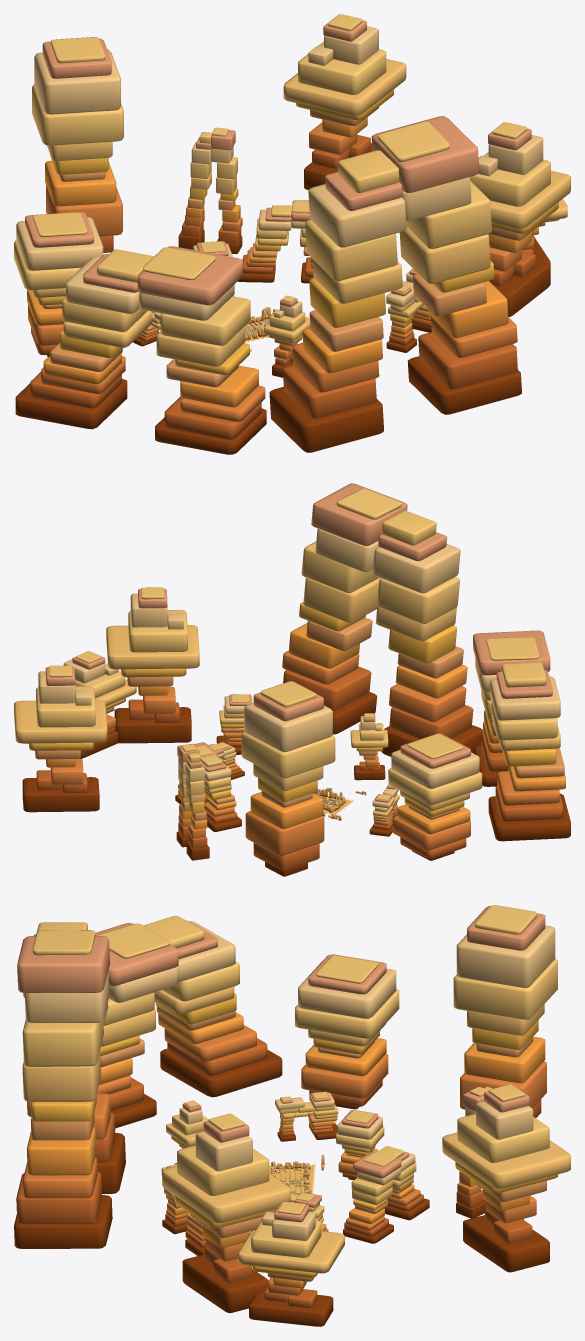
File: enviro build.fbx
The picture shows the model from 3 angles, top to bottom: view 1: azimuth 30°, elevation 25°; view 2: azimuth 150°, elevation 25°; view 3: azimuth 270°, elevation 25°; orthographic projection. The views are drawn at different scales.
Visible parts, largest first — view 1: Cube.221, Cube.218, Cube.222, Cube.220, Cube.214, Cube.219, Cube.225, Cube.213, Cube.216, Cube.224, Cube.217; view 2: Cube.221, Cube.218, Cube.222, Cube.214, Cube.220, Cube.219, Cube.225, Cube.217, Cube.213, Cube.224, Cube.216, Cube.215 (+1 smaller); view 3: Cube.221, Cube.218, Cube.222, Cube.214, Cube.220, Cube.219, Cube.217, Cube.213, Cube.215, Cube.223, Cube.225, Cube.216 (+3 smaller).
Boxes of the visible parts, left/top/right/bottom form: Cube.221: left=269, top=116, right=521, bottom=452; Cube.218: left=15, top=246, right=266, bottom=454; Cube.222: left=32, top=37, right=123, bottom=252; Cube.220: left=283, top=14, right=406, bottom=189; Cube.214: left=470, top=122, right=570, bottom=316; Cube.219: left=14, top=212, right=103, bottom=356; Cube.225: left=178, top=127, right=242, bottom=254; Cube.213: left=238, top=200, right=313, bottom=283; Cube.216: left=386, top=268, right=431, bottom=352; Cube.224: left=264, top=295, right=310, bottom=377; Cube.217: left=522, top=199, right=567, bottom=264; Cube.221: left=282, top=483, right=483, bottom=756; Cube.218: left=473, top=630, right=570, bottom=841; Cube.222: left=241, top=681, right=335, bottom=876; Cube.214: left=106, top=587, right=199, bottom=743; Cube.220: left=14, top=665, right=107, bottom=812; Cube.219: left=388, top=733, right=482, bottom=860; Cube.225: left=176, top=743, right=209, bottom=860; Cube.217: left=63, top=651, right=136, bottom=758; Cube.213: left=175, top=742, right=241, bottom=831; Cube.224: left=350, top=713, right=388, bottom=780; Cube.216: left=216, top=694, right=252, bottom=754; Cube.215: left=369, top=784, right=399, bottom=836; Cube.221: left=14, top=922, right=125, bottom=1248; Cube.218: left=95, top=915, right=282, bottom=1128; Cube.222: left=453, top=905, right=557, bottom=1117; Cube.214: left=162, top=1113, right=290, bottom=1313; Cube.220: left=442, top=1084, right=570, bottom=1272; Cube.219: left=295, top=954, right=399, bottom=1109; Cube.217: left=238, top=1201, right=344, bottom=1326; Cube.213: left=343, top=1146, right=429, bottom=1243; Cube.215: left=275, top=1091, right=338, bottom=1141; Cube.223: left=336, top=1110, right=384, bottom=1180; Cube.225: left=456, top=1086, right=492, bottom=1218; Cube.216: left=161, top=1164, right=205, bottom=1255.
Bounding box in the file's own units: 68455 × 31722 × 55952.
